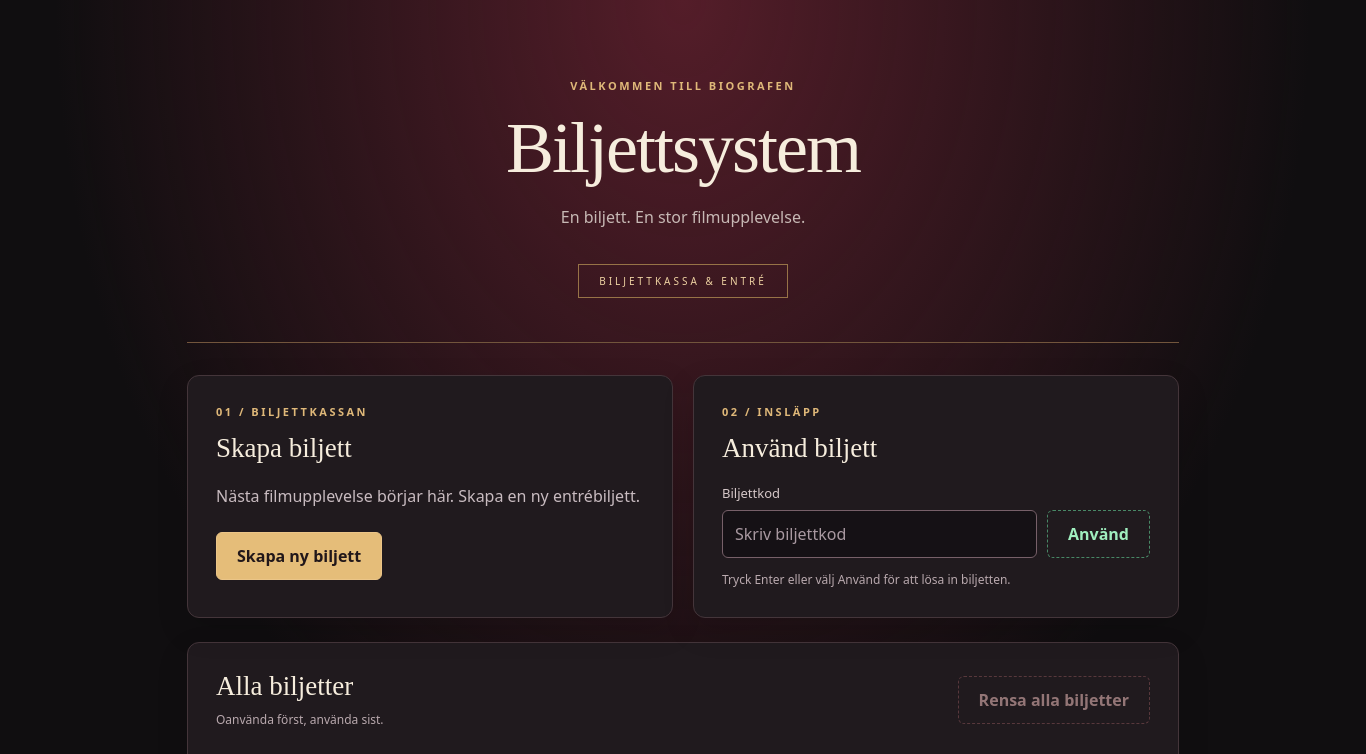
Ticket system › should create a new ticket
Click the button "Skapa ny biljett": {"x": 299, "y": 556} [216,532,382,580]
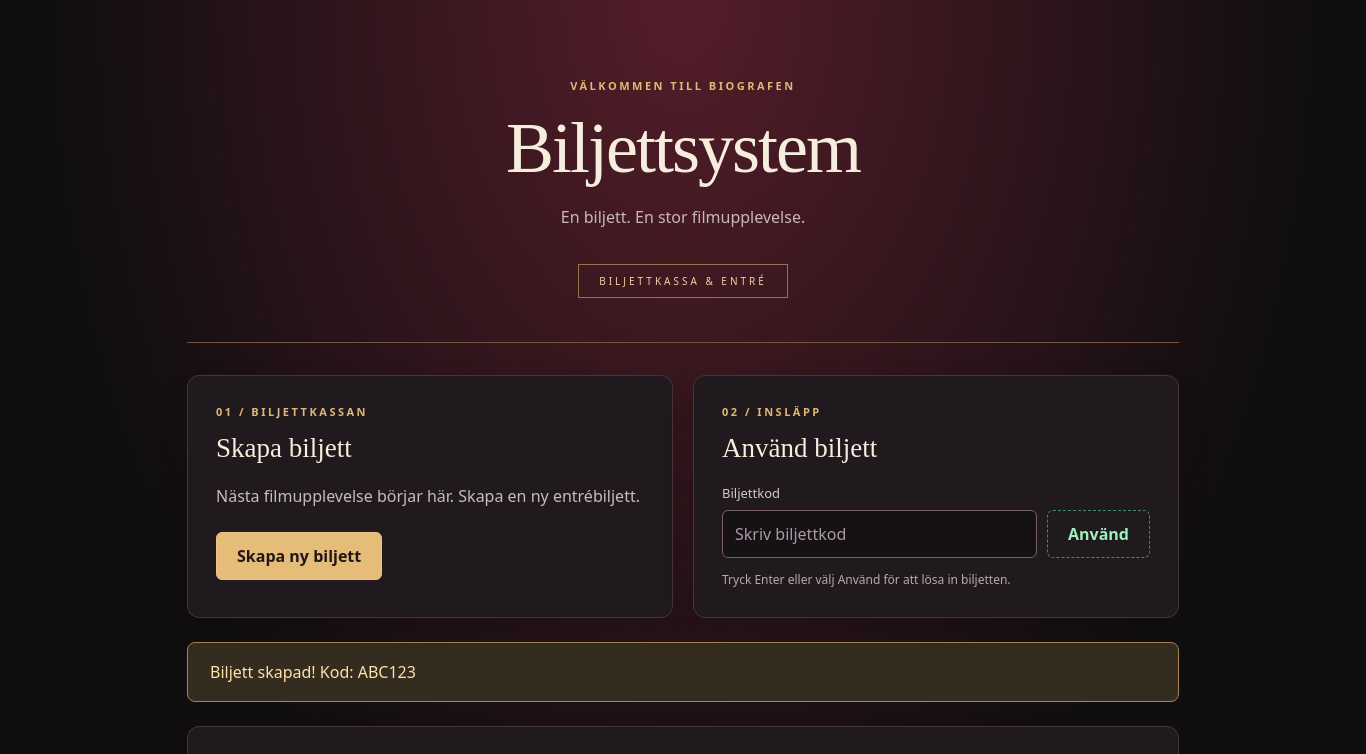
Expected: the text "Biljett skapad! Kod: ABC123" is shown, [187,642,1179,702]
